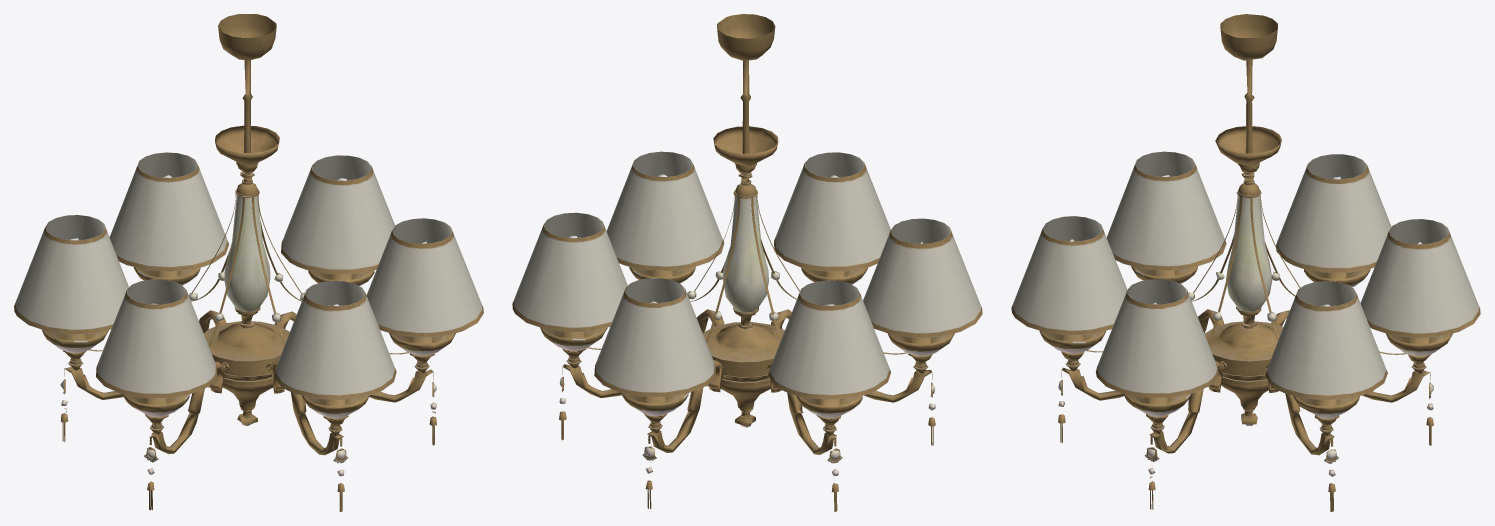
Rendered from chandelier_01.glb.
The picture shows the model from 3 angles, left to right: view 1: azimuth 30°, elevation 25°; view 2: azimuth 150°, elevation 25°; view 3: azimuth 270°, elevation 25°; orthographic projection.
Parts seen in each view (by area): view 1: Chandelier_01; view 2: Chandelier_01; view 3: Chandelier_01.
Part boxes in pixels (box(x1,y1,x2,y2)): Chandelier_01: box(14, 14, 483, 511); Chandelier_01: box(512, 14, 982, 511); Chandelier_01: box(1011, 14, 1480, 511).
Bounding box in the file's own units: 0.7465 × 0.7983 × 0.8155.
Materials: 2 (1 with a texture image).
